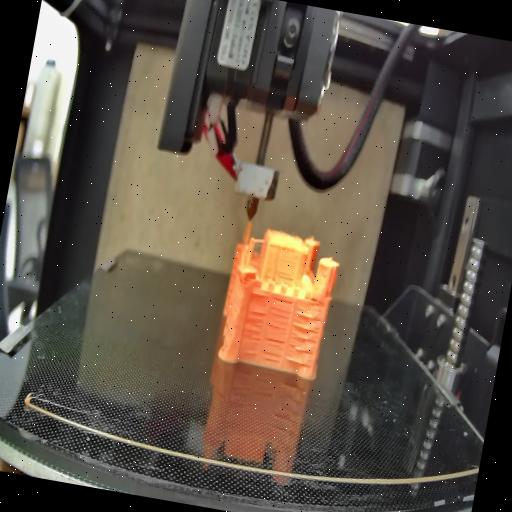cracks: (238, 287, 270, 358), (260, 298, 292, 364), (285, 310, 322, 365), (276, 268, 292, 284), (306, 294, 324, 307)
